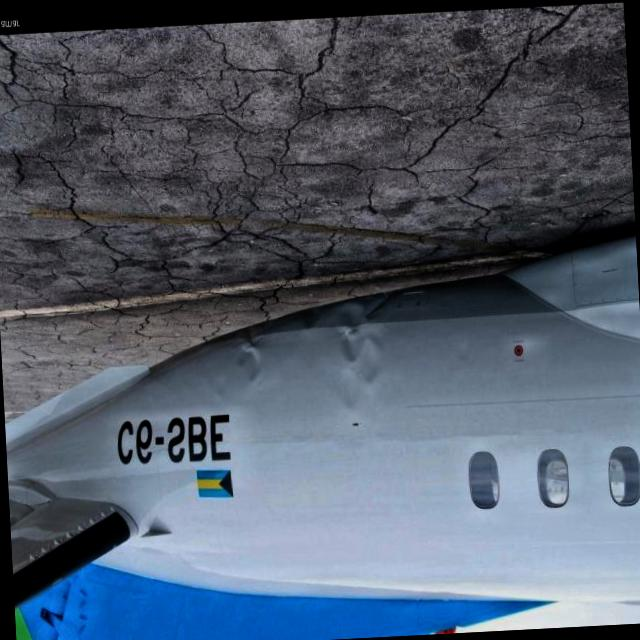dent: (301, 288, 394, 414), (227, 322, 273, 382)
